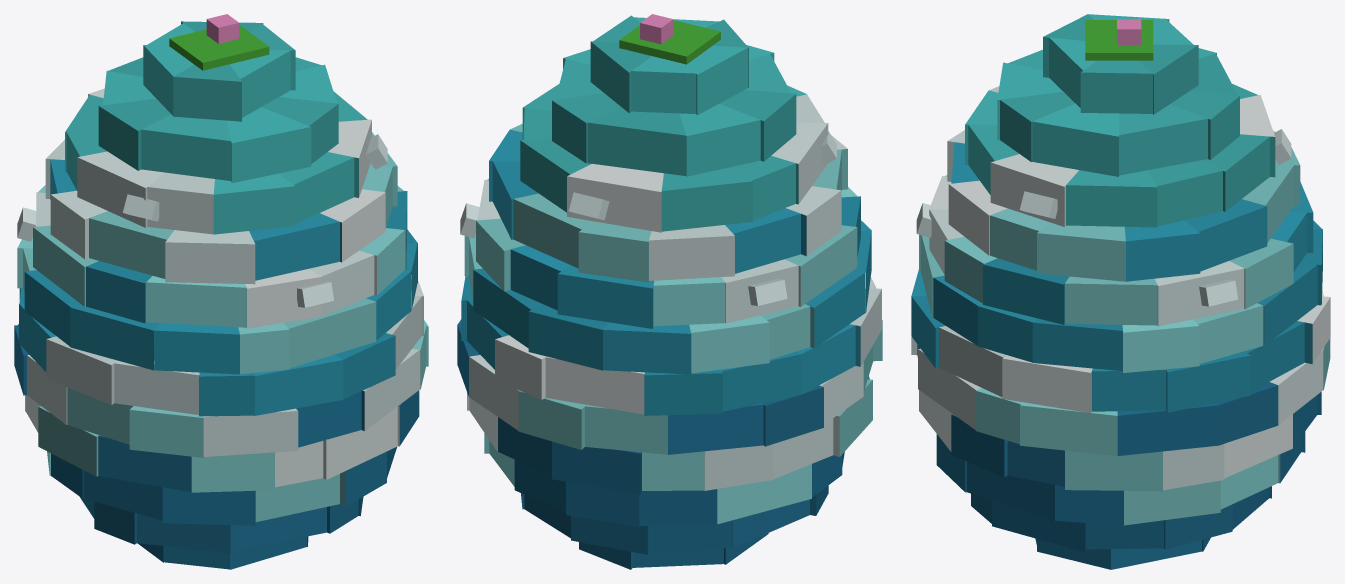
Rendered from lake_egg.glb.
3 views of the same model, side by side, from view 1: azimuth 30°, elevation 25°; view 2: azimuth 150°, elevation 25°; view 3: azimuth 270°, elevation 25° (orthographic).
Parts seen in each view (by area): view 1: lake_egg; view 2: lake_egg; view 3: lake_egg.
Part boxes in pixels (<box>): lake_egg: <box>14,14,428,569</box>; lake_egg: <box>457,14,882,569</box>; lake_egg: <box>911,14,1330,569</box>.
Bounding box in the file's own units: 0.8697 × 1.15 × 0.8646.
